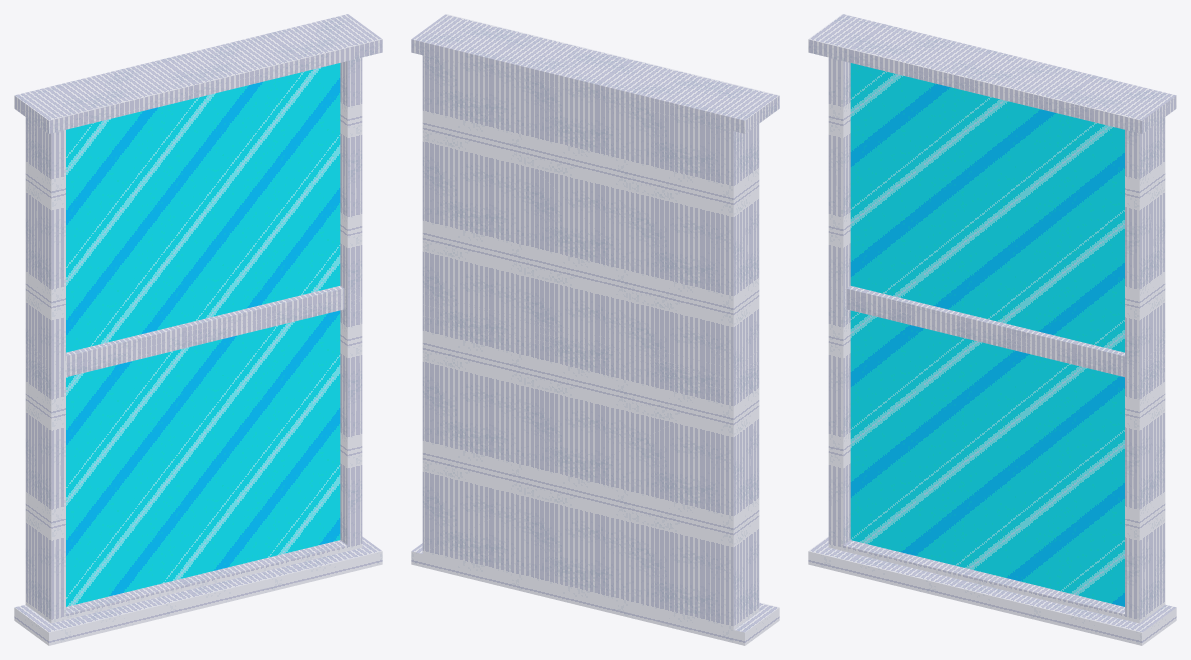
The model's file is window.glb.
3 views of the same model, side by side, from view 1: azimuth 30°, elevation 25°; view 2: azimuth 150°, elevation 25°; view 3: azimuth 330°, elevation 25° (orthographic).
Parts seen in each view (by area): view 1: Window; view 2: Window; view 3: Window.
Boxes of the visible parts, x1,y1,x2,y2 form: Window: (14, 14, 382, 645); Window: (411, 14, 779, 645); Window: (808, 14, 1176, 645).
Bounding box in the file's own units: 0.7933 × 1.19 × 0.1424.
2 materials, 2 textured.
